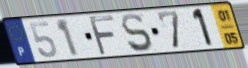1: (190, 7, 216, 49), (55, 18, 81, 58)
5: (27, 20, 59, 59)
7: (155, 9, 182, 51)
F: (87, 15, 118, 58)
S: (120, 12, 155, 54)
